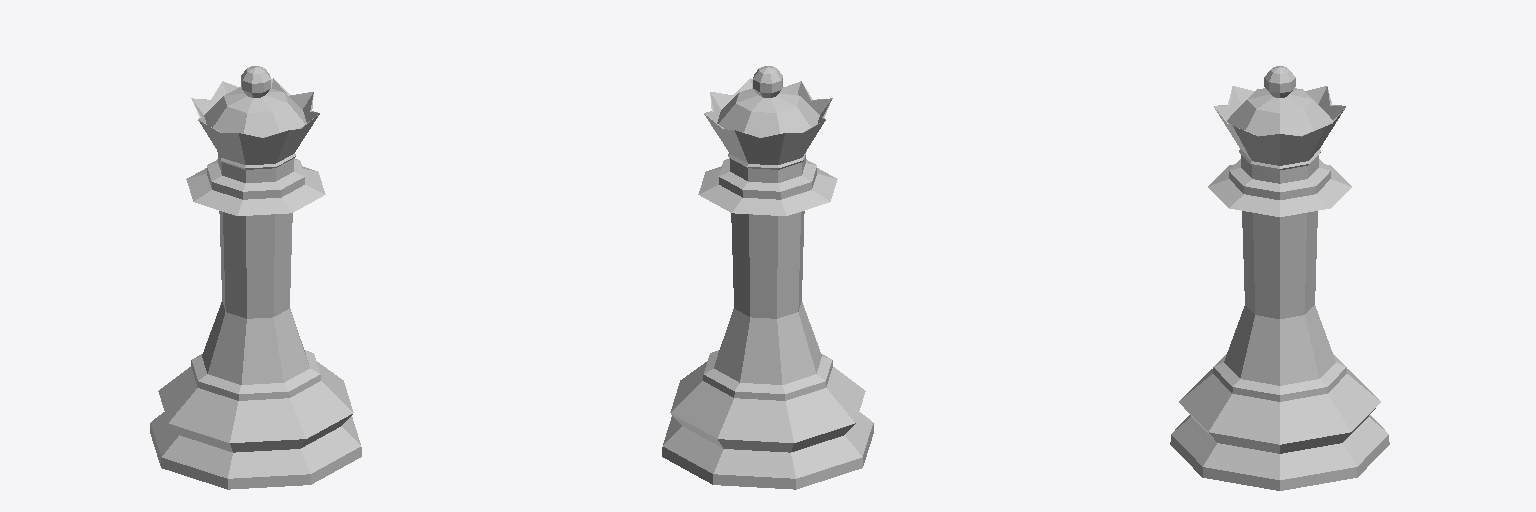
The model's file is queen.obj.
The picture shows the model from 3 angles: view 1: azimuth 30°, elevation 25°; view 2: azimuth 150°, elevation 25°; view 3: azimuth 270°, elevation 25°; orthographic projection.
Visible parts, largest first — view 1: Queen; view 2: Queen; view 3: Queen.
Boxes of the visible parts, box(x1,y1,x2,y2) form: Queen: box(150, 66, 361, 489); Queen: box(662, 66, 873, 489); Queen: box(1170, 66, 1389, 490).
Bounding box in the file's own units: 4 × 7.61 × 4.